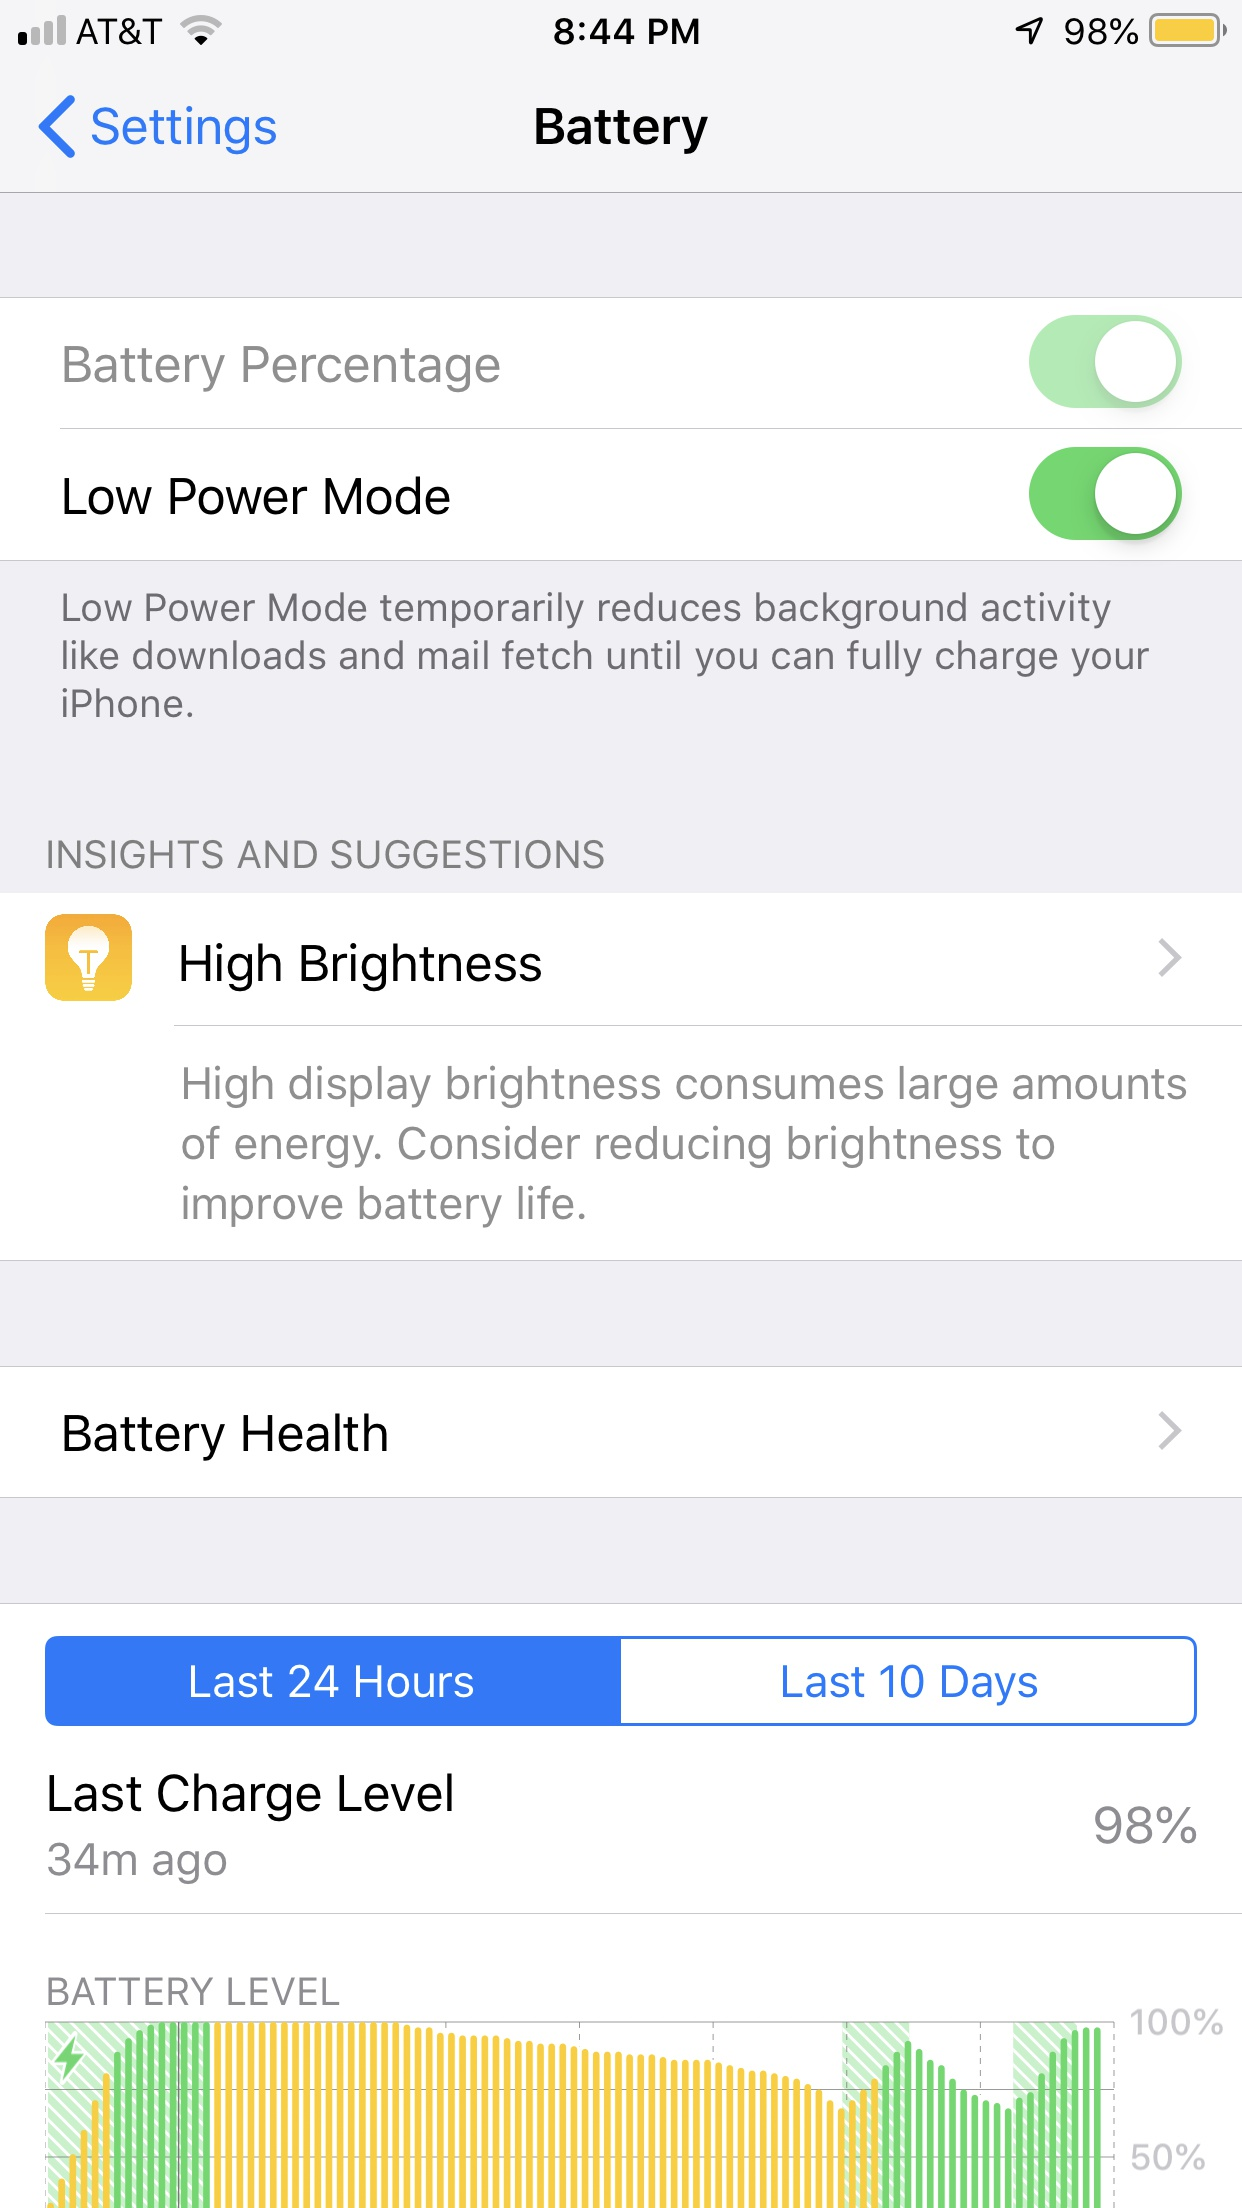Icon: (39, 96, 77, 161), (1156, 1406, 1181, 1451), (1156, 937, 1180, 977)
Image: (44, 2006, 1224, 2208), (45, 913, 133, 1002)
Switch: (1028, 446, 1183, 541), (1028, 315, 1183, 409)
Text: (182, 1065, 1187, 1228), (62, 591, 1149, 719), (64, 346, 500, 394), (49, 1771, 453, 1821), (180, 943, 543, 993), (49, 840, 605, 870), (64, 1412, 390, 1462), (64, 476, 450, 517), (49, 1974, 341, 2006), (93, 106, 278, 156), (535, 108, 710, 156), (49, 1841, 227, 1885), (1093, 1805, 1197, 1846)
TextButton: (45, 1636, 622, 1727), (622, 1636, 1198, 1727)
UpperTaskBar: (2, 2, 1242, 49)
